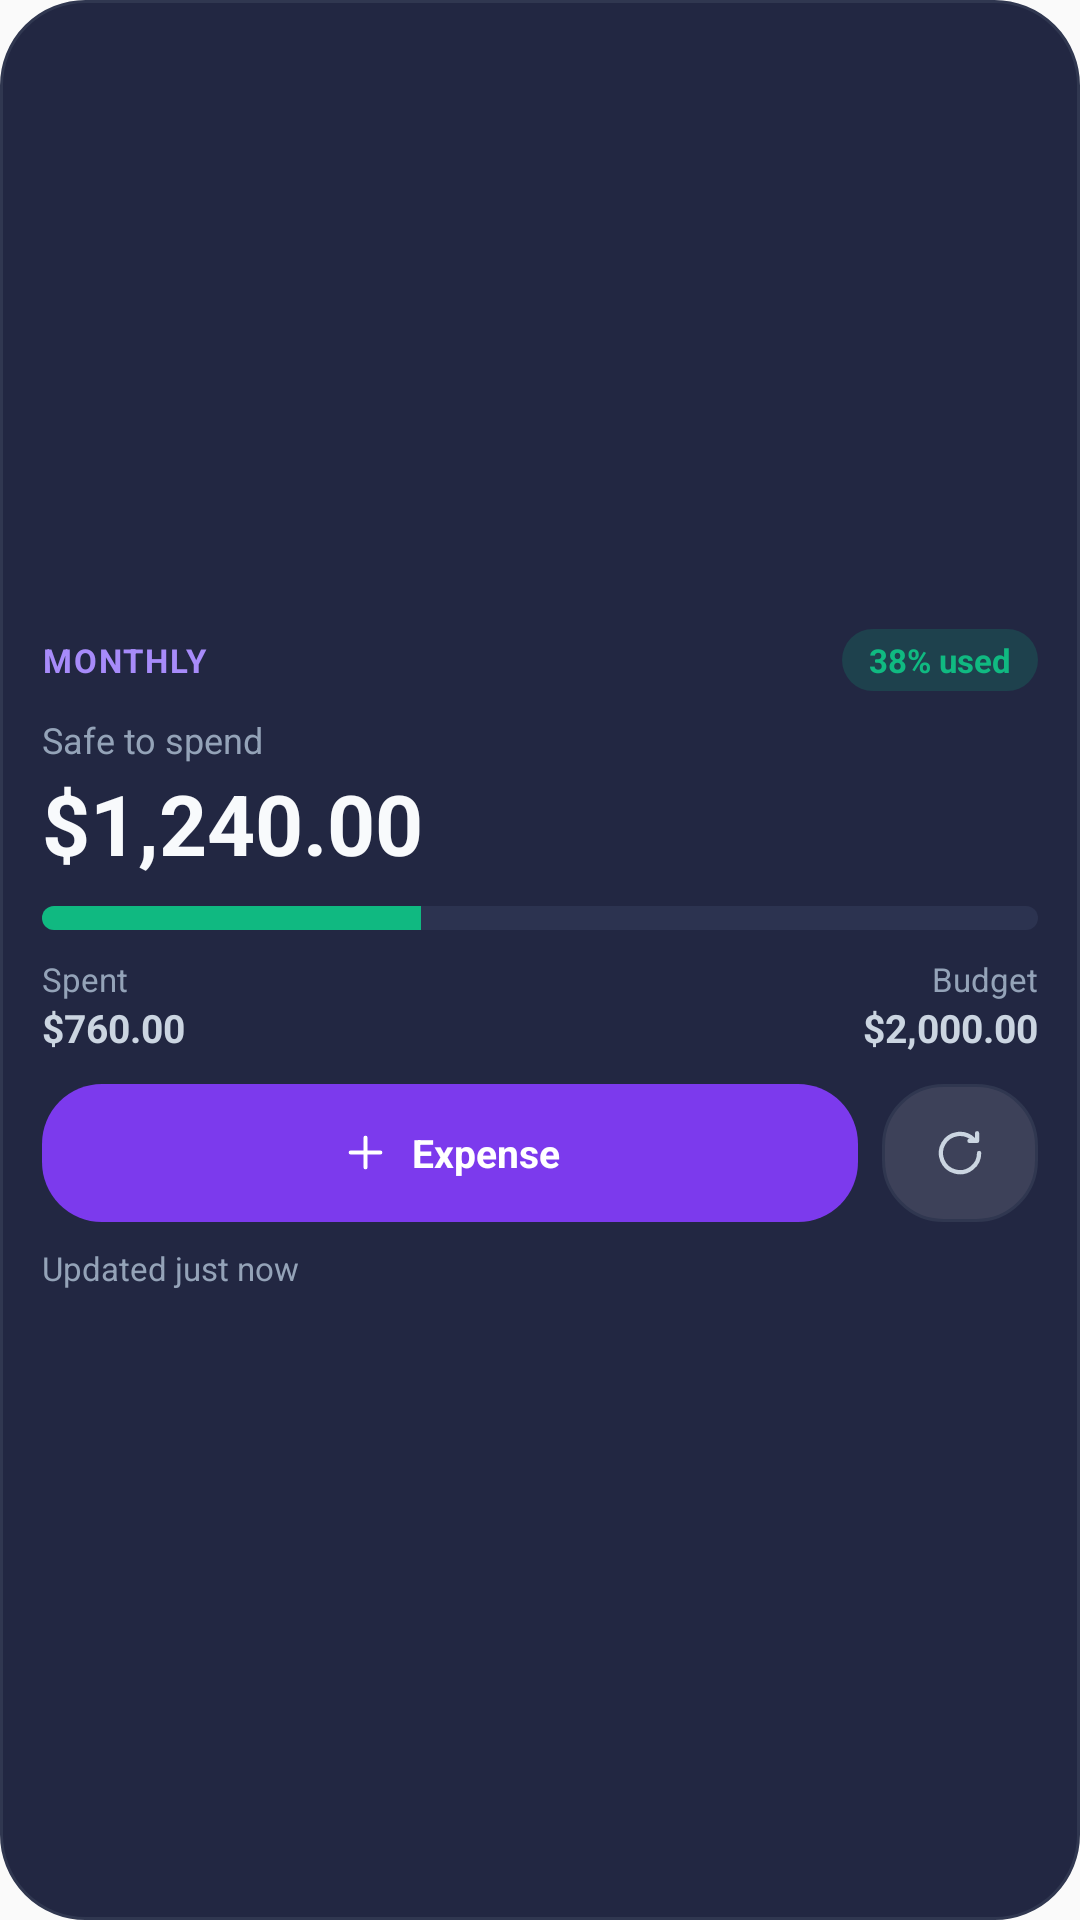

Screen size 1080x1920. Icon name, then its center in pixels as point (x, y):
widget add: point (365, 1152)
widget refresh: point (960, 1153)
